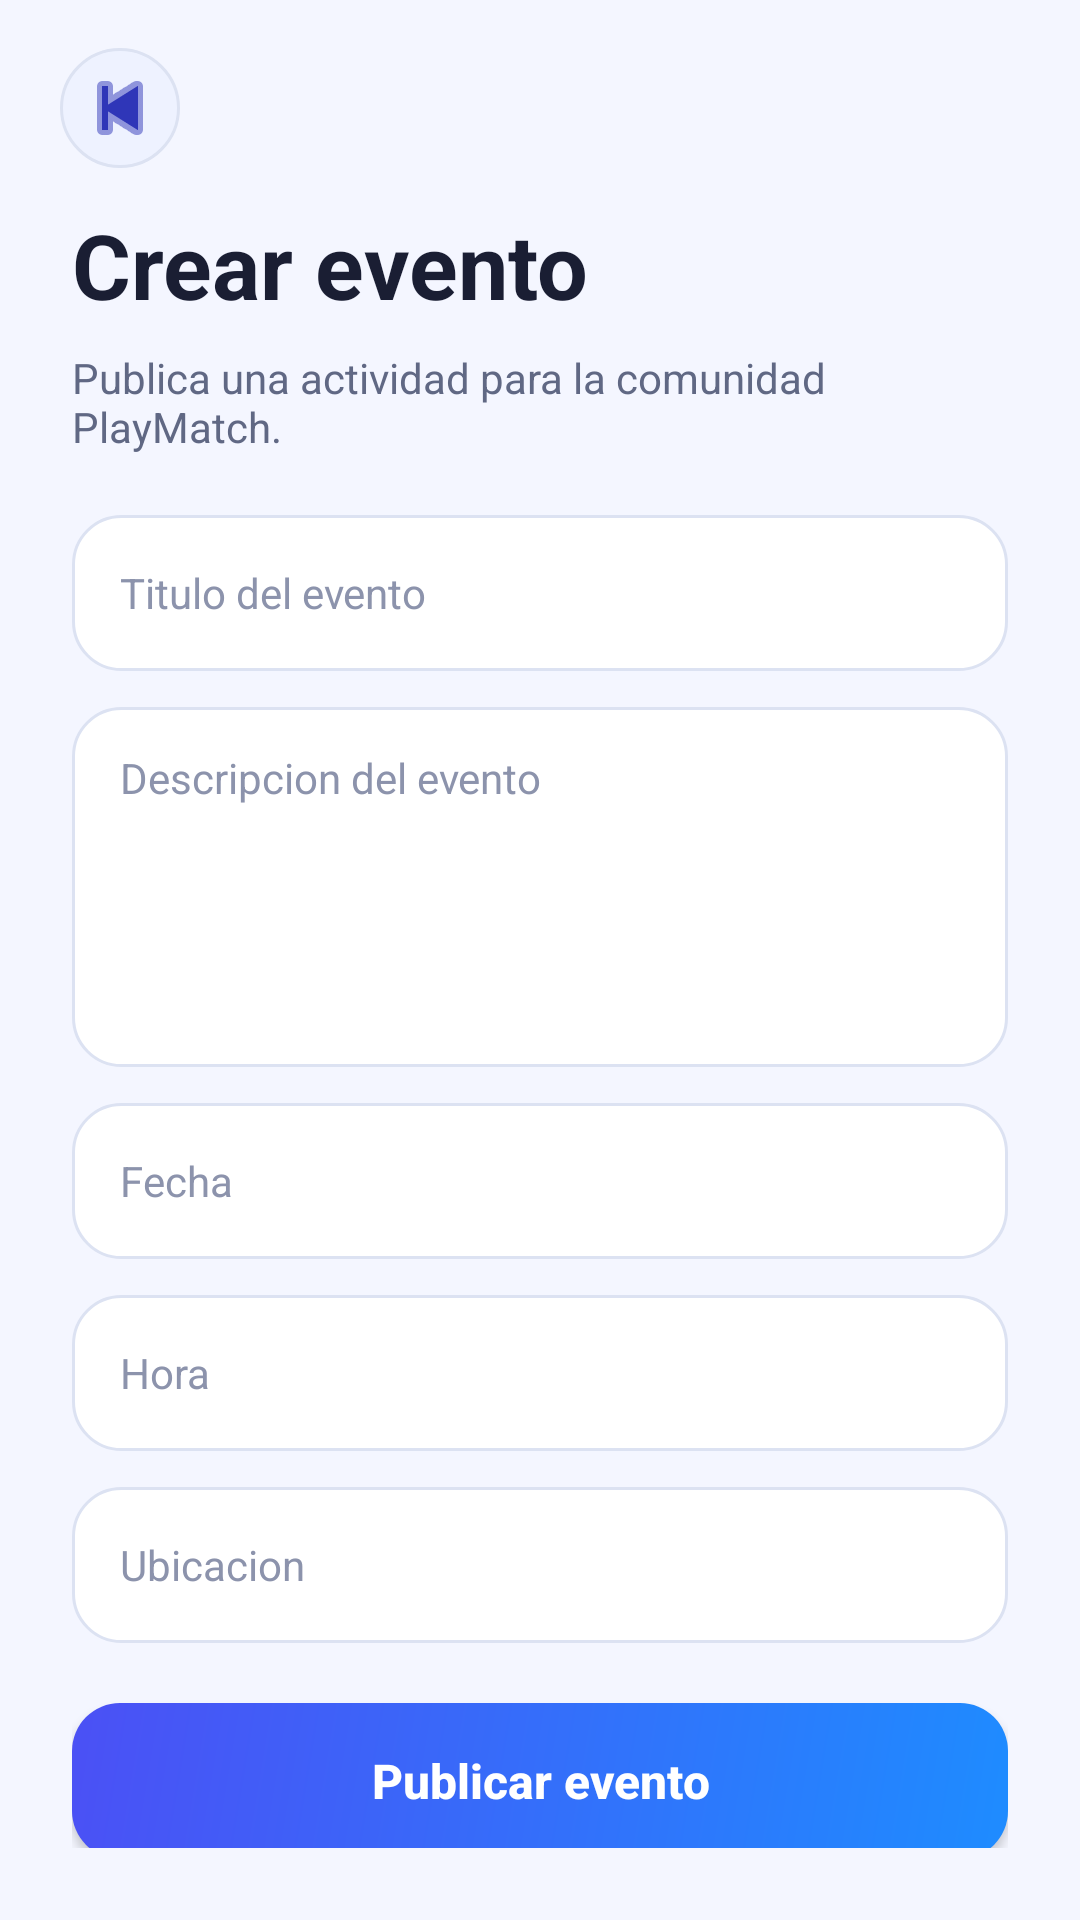

Named icons in this screenshot (1080*1920) and their centers, point (x, y):
Volver: point (120, 108)
